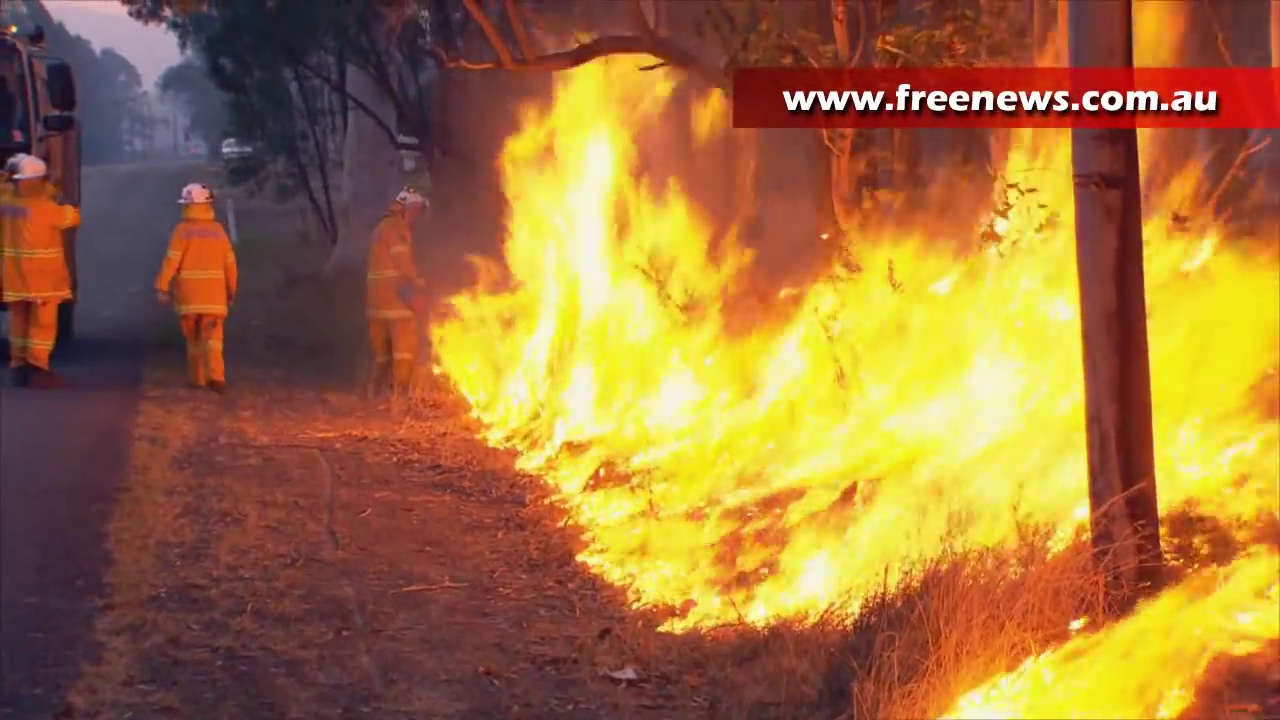fire: (428, 52, 1277, 634), (949, 543, 1280, 720)
